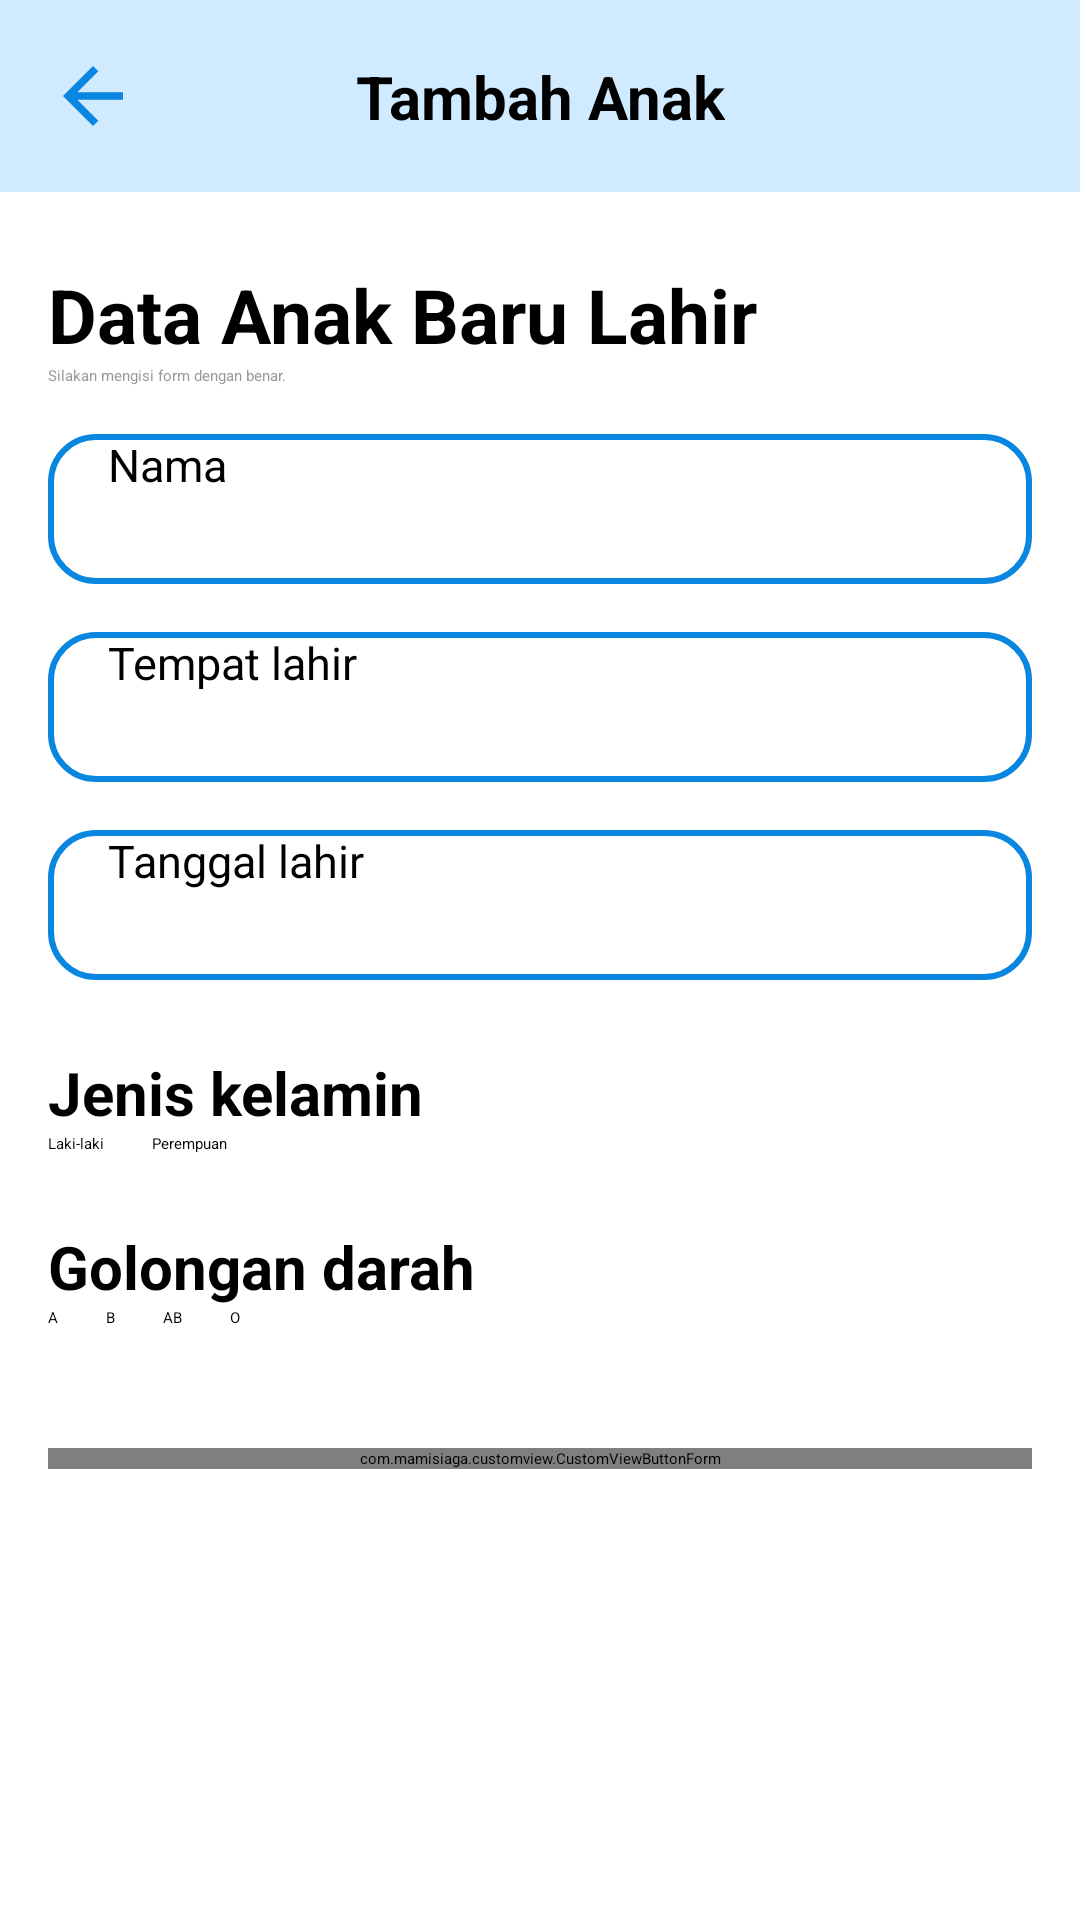

Icon bounding boxes for this 1080 × 1920 phone screenshot, format Rect(x1, y1, x2, y2):
arrow back: Rect(63, 66, 123, 126)
